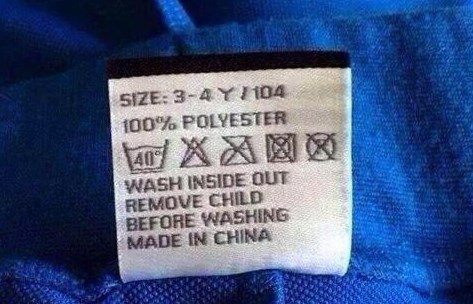ER_no_bleach: (176, 136, 211, 170)
ER_no_iron: (215, 131, 260, 169)
ER_no_tumble_dry: (261, 127, 301, 167)
ER_wash_40_mild: (121, 135, 173, 176)
